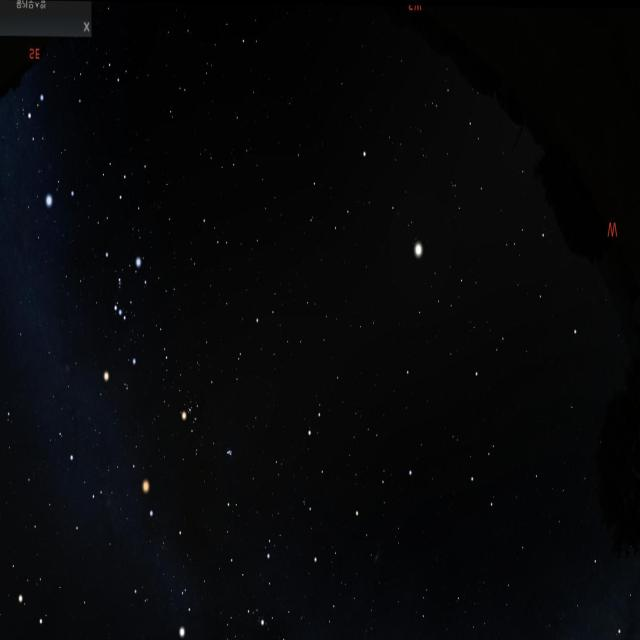canis_major: (25, 84, 81, 212)
canis_minor: (0, 376, 16, 424)
gemini: (6, 459, 118, 640)
orion: (91, 250, 148, 388)
pleiades: (222, 438, 238, 461)
taurus: (174, 371, 243, 486)
